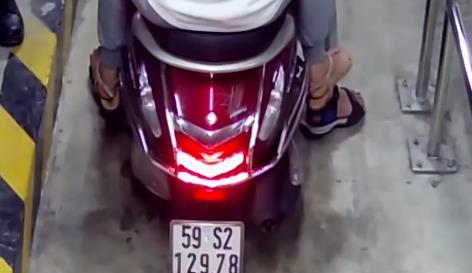lisence: (168, 219, 245, 273)
